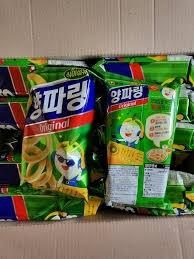snack: (104, 70, 182, 213), (22, 64, 96, 205)
